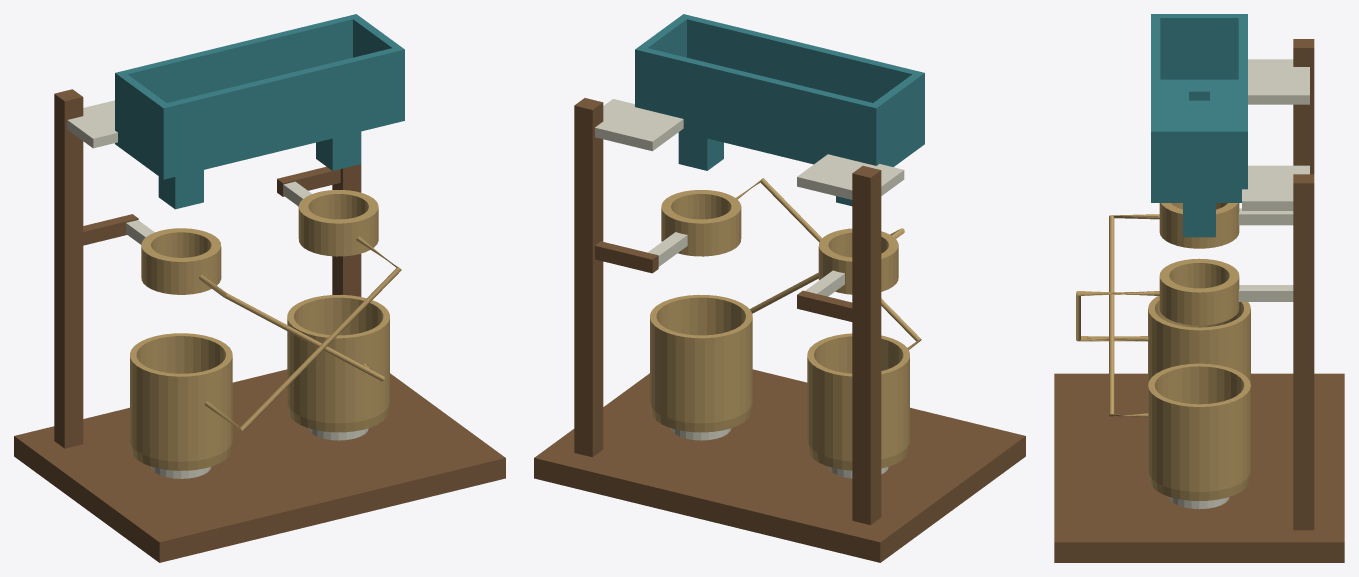
3 renders of one model, left to right at view 1: azimuth 30°, elevation 25°; view 2: azimuth 150°, elevation 25°; view 3: azimuth 270°, elevation 25°, orthographic.
Visible parts, largest first — view 1: WholeGroundPlinth, WholeSharedOpenReservoirAndTwinDownMouths, LeftWholeDeepOpenCup, RightWholeDeepOpenCup, LeftWholeRearUpright, RightWholeOpenIntermediateRing, LeftWholeOpenIntermediateRing, RightWholeRearUpright, LeftWholeUpperReservoirBracket, RightWholeCrossLinkedBentRod, LeftWholeCrossLinkedBentRod, RightWholeRingCrossStay (+1 smaller); view 2: WholeGroundPlinth, WholeSharedOpenReservoirAndTwinDownMouths, RightWholeDeepOpenCup, LeftWholeRearUpright, RightWholeRearUpright, LeftWholeDeepOpenCup, RightWholeOpenIntermediateRing, RightWholeUpperReservoirBracket, LeftWholeOpenIntermediateRing, LeftWholeUpperReservoirBracket, RightWholeRingCrossStay, LeftWholeRingCrossStay (+3 smaller); view 3: WholeGroundPlinth, WholeSharedOpenReservoirAndTwinDownMouths, RightWholeDeepOpenCup, RightWholeRearUpright, LeftWholeDeepOpenCup, RightWholeOpenIntermediateRing, LeftWholeUpperReservoirBracket, RightWholeUpperReservoirBracket, LeftWholeOpenIntermediateRing, LeftWholeRearUpright, LeftWholeCrossLinkedBentRod, RightWholeCrossLinkedBentRod (+3 smaller).
Boxes of the visible parts, bbox=[...] form: WholeGroundPlinth: bbox=[14, 369, 505, 562]; WholeSharedOpenReservoirAndTwinDownMouths: bbox=[115, 14, 404, 209]; LeftWholeDeepOpenCup: bbox=[130, 333, 232, 470]; RightWholeDeepOpenCup: bbox=[287, 294, 389, 432]; LeftWholeRearUpright: bbox=[54, 89, 83, 448]; RightWholeOpenIntermediateRing: bbox=[298, 190, 378, 256]; LeftWholeOpenIntermediateRing: bbox=[141, 228, 221, 294]; RightWholeRearUpright: bbox=[332, 164, 361, 296]; LeftWholeUpperReservoirBracket: bbox=[67, 100, 117, 148]; RightWholeCrossLinkedBentRod: bbox=[204, 237, 401, 431]; LeftWholeCrossLinkedBentRod: bbox=[199, 275, 384, 381]; RightWholeRingCrossStay: bbox=[277, 166, 340, 196]; WholeGroundPlinth: bbox=[534, 369, 1025, 562]; WholeSharedOpenReservoirAndTwinDownMouths: bbox=[635, 14, 924, 206]; RightWholeDeepOpenCup: bbox=[650, 294, 752, 432]; LeftWholeRearUpright: bbox=[852, 165, 881, 524]; RightWholeRearUpright: bbox=[574, 98, 603, 457]; LeftWholeDeepOpenCup: bbox=[807, 333, 909, 470]; RightWholeOpenIntermediateRing: bbox=[661, 190, 741, 256]; RightWholeUpperReservoirBracket: bbox=[595, 99, 683, 151]; LeftWholeOpenIntermediateRing: bbox=[818, 228, 898, 294]; LeftWholeUpperReservoirBracket: bbox=[797, 154, 904, 199]; RightWholeRingCrossStay: bbox=[595, 241, 658, 273]; LeftWholeRingCrossStay: bbox=[797, 290, 852, 321]; WholeGroundPlinth: bbox=[1054, 373, 1344, 562]; WholeSharedOpenReservoirAndTwinDownMouths: bbox=[1151, 14, 1247, 237]; RightWholeDeepOpenCup: bbox=[1148, 363, 1250, 500]; RightWholeRearUpright: bbox=[1293, 174, 1314, 530]; LeftWholeDeepOpenCup: bbox=[1148, 296, 1250, 384]; RightWholeOpenIntermediateRing: bbox=[1159, 258, 1239, 325]; LeftWholeUpperReservoirBracket: bbox=[1248, 59, 1309, 104]; RightWholeUpperReservoirBracket: bbox=[1242, 165, 1309, 210]; LeftWholeOpenIntermediateRing: bbox=[1159, 203, 1239, 248]; LeftWholeRearUpright: bbox=[1293, 39, 1314, 174]; LeftWholeCrossLinkedBentRod: bbox=[1109, 214, 1159, 417]; RightWholeCrossLinkedBentRod: bbox=[1076, 291, 1159, 341].
Bounding box in the file's own units: 1.32 × 1.48 × 0.96.
